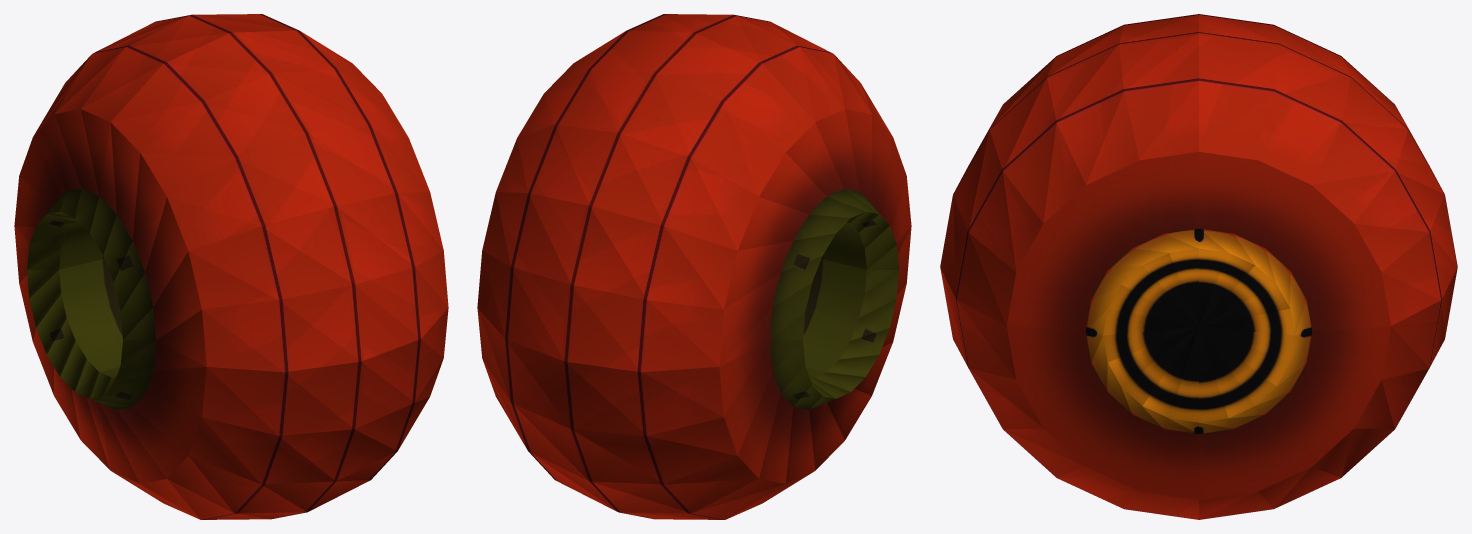
The model's file is wheel.glb.
3 views of the same model, side by side, from view 1: azimuth 30°, elevation 25°; view 2: azimuth 150°, elevation 25°; view 3: azimuth 270°, elevation 25° (orthographic).
Visible parts, largest first — view 1: wheel_3; view 2: wheel_3; view 3: wheel_3.
Boxes of the visible parts, bbox=[...] form: wheel_3: bbox=[14, 14, 448, 519]; wheel_3: bbox=[477, 14, 911, 519]; wheel_3: bbox=[940, 14, 1457, 519].
Bounding box in the file's own units: 0.2436 × 0.3672 × 0.3673.
1 material, 1 textured.
